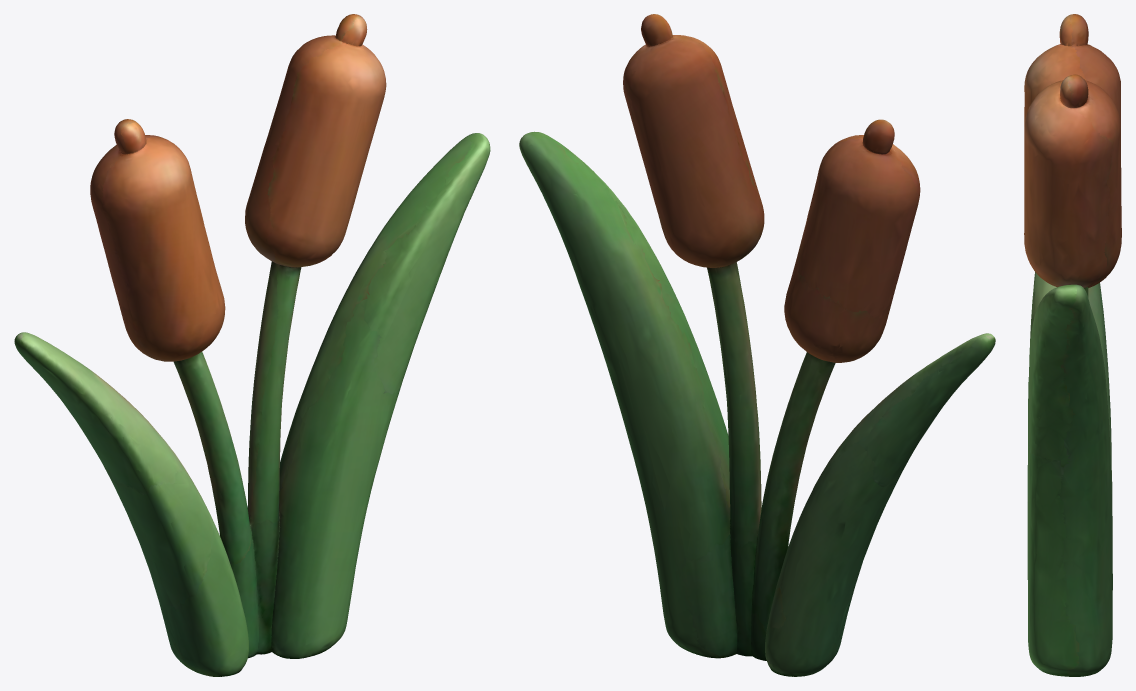
Rendered from cattail_pbr.glb.
3 renders of one model, left to right at view 1: azimuth 30°, elevation 25°; view 2: azimuth 150°, elevation 25°; view 3: azimuth 270°, elevation 25°, orthographic.
Parts seen in each view (by area): view 1: model.008; view 2: model.008; view 3: model.008.
Part boxes in pixels (<box>): model.008: <box>14,14,490,676</box>; model.008: <box>519,14,995,676</box>; model.008: <box>1024,14,1121,676</box>.
Bounding box in the file's own units: 1.1 × 1.37 × 0.1971.
Materials: 1 (1 with a texture image).
